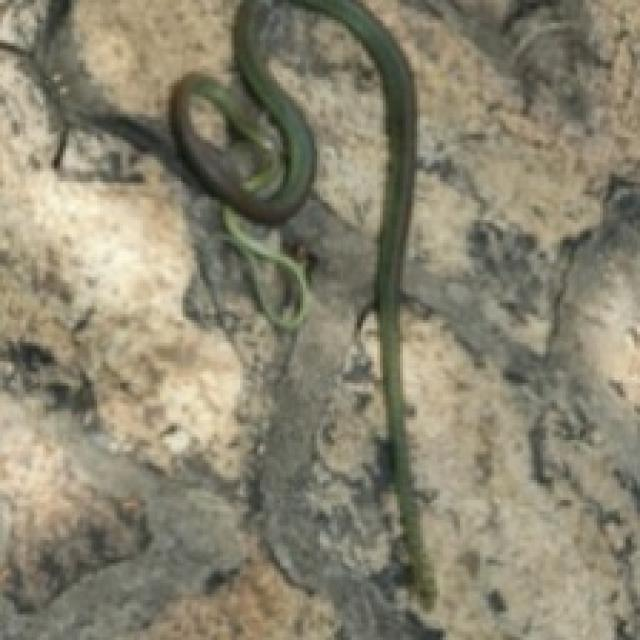paradise tree snake: (289, 0, 434, 606), (169, 0, 314, 223)
